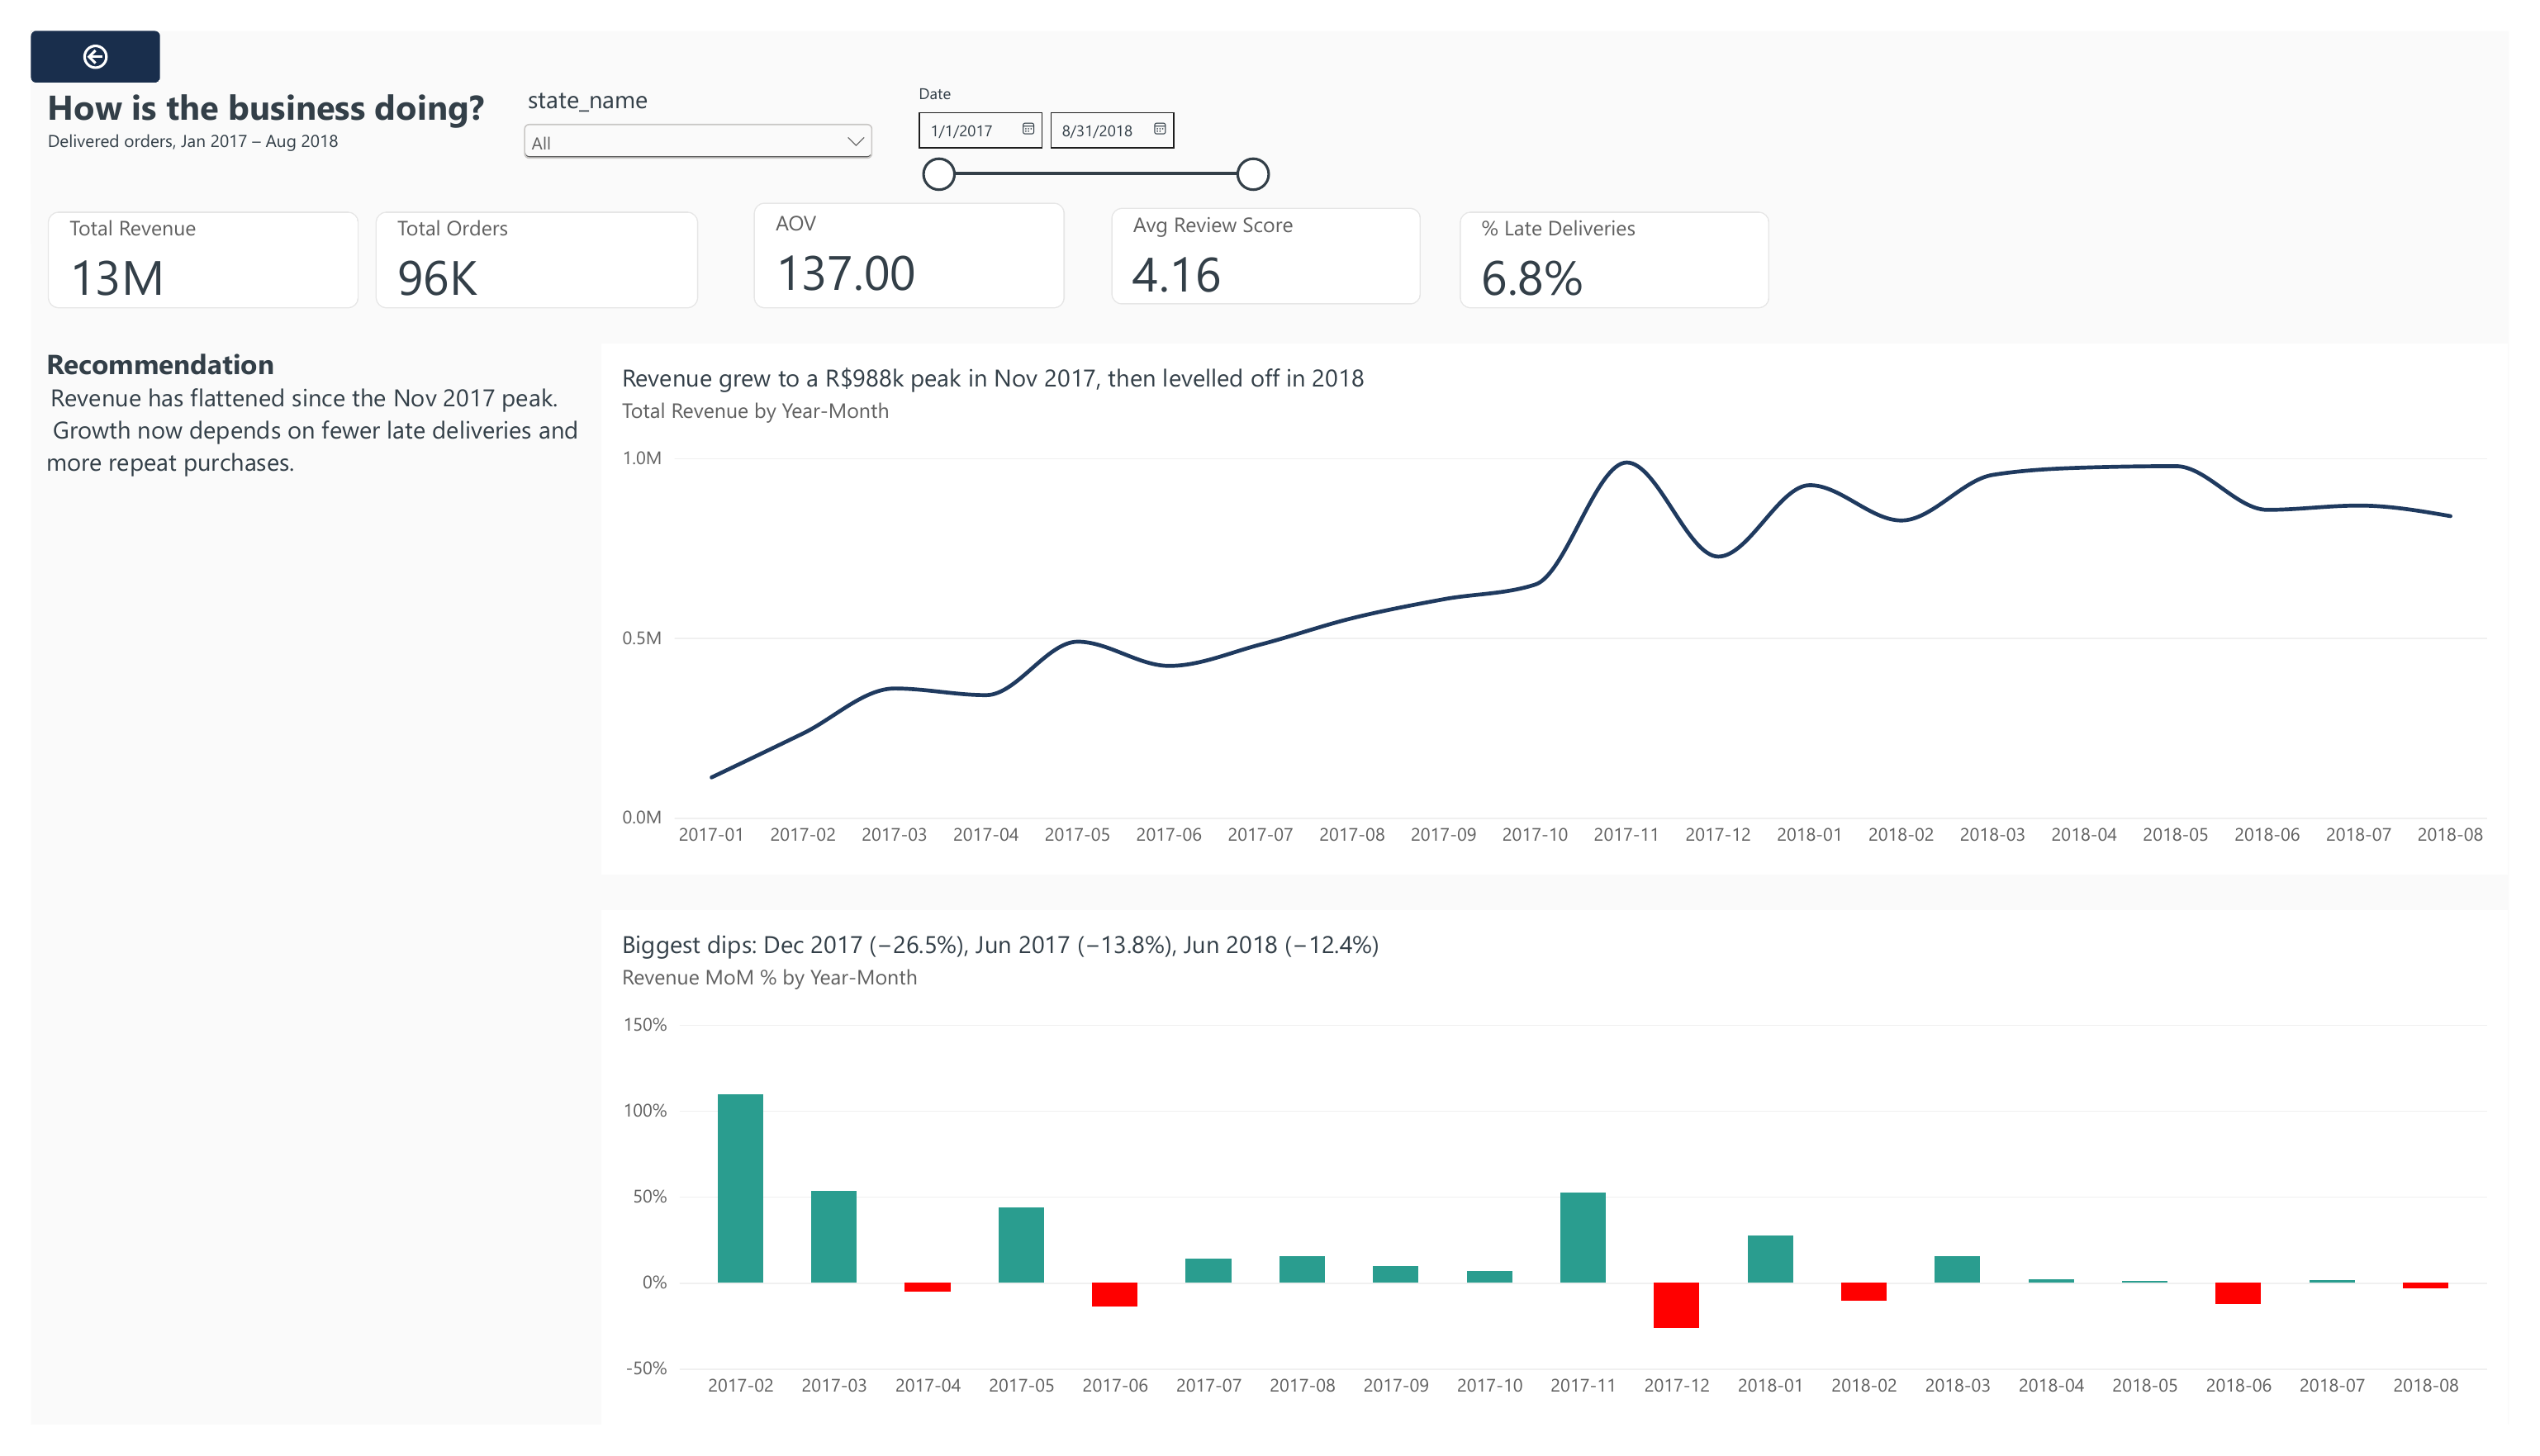

The dashboard page shown, as its layout file describes it:
{"tool":"powerbi","page":{"name":"Overview","canvas":[1920,1080],"ordinal":0},"visuals":[{"type":"actionButton","box":[0,0,100,40],"z":0},{"type":"textbox","box":[13.3,40,363.3,93.3],"z":1000},{"type":"cardVisual","fields":{"Data":["_Measures.Total Revenue"]},"box":[13.3,140,240.6,75],"z":2000},{"type":"cardVisual","fields":{"Data":["_Measures.Total Orders"]},"box":[266.7,140,250,75],"z":3000},{"type":"cardVisual","fields":{"Data":["_Measures.AOV"]},"box":[560,133.3,240.6,81.2],"z":4000},{"type":"cardVisual","fields":{"Data":["_Measures.Avg Review Score"]},"box":[836.7,136.7,240.6,75],"z":5000},{"type":"cardVisual","fields":{"Data":["_Measures.% Late Deliveries"]},"box":[1106.7,140,240.6,75],"z":6000},{"type":"lineChart","title":"Revenue grew to a R$988k peak in Nov 2017, then levelled off in 2018","fields":{"Category":["dim_date.Year-Month"],"Y":["_Measures.Total Revenue"]},"box":[442.3,242.3,1476.9,411.5],"z":7000},{"type":"slicer","fields":{"Values":["dim_state.state_name"]},"box":[376.7,40,280,96.7],"z":8000},{"type":"slicer","fields":{"Values":["dim_date.Date"]},"box":[680,40,283.3,96.7],"z":9000},{"type":"clusteredColumnChart","title":"Biggest dips: Dec 2017 (−26.5%), Jun 2017 (−13.8%), Jun 2018 (−12.4%)","fields":{"Category":["dim_date.Year-Month"],"Y":["_Measures.Revenue MoM %"]},"box":[442.3,680.8,1476.9,400],"z":9001},{"type":"textbox","box":[12.5,242.9,430.4,221.4],"z":9002}]}

Visuals, with their boxes on the page's 1920x1080 design canvas (x1, y1, x2, y2). These are canvas units, not pixel positions in the 2540x1456 screenshot, which may show the page scaled, cropped or inside an application window:
actionButton: (0,0,100,40)
textbox: (13,40,377,133)
cardVisual - _Measures.Total Revenue: (13,140,254,215)
cardVisual - _Measures.Total Orders: (267,140,517,215)
cardVisual - _Measures.AOV: (560,133,801,214)
cardVisual - _Measures.Avg Review Score: (837,137,1077,212)
cardVisual - _Measures.% Late Deliveries: (1107,140,1347,215)
"Revenue grew to a R$988k peak in Nov 2017, then levelled off in 2018" lineChart: (442,242,1919,654)
slicer - dim_state.state_name: (377,40,657,137)
slicer - dim_date.Date: (680,40,963,137)
"Biggest dips: Dec 2017 (−26.5%), Jun 2017 (−13.8%), Jun 2018 (−12.4%)" clusteredColumnChart: (442,681,1919,1081)
textbox: (12,243,443,464)
